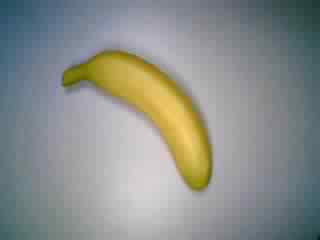banana: (59, 48, 223, 197)
